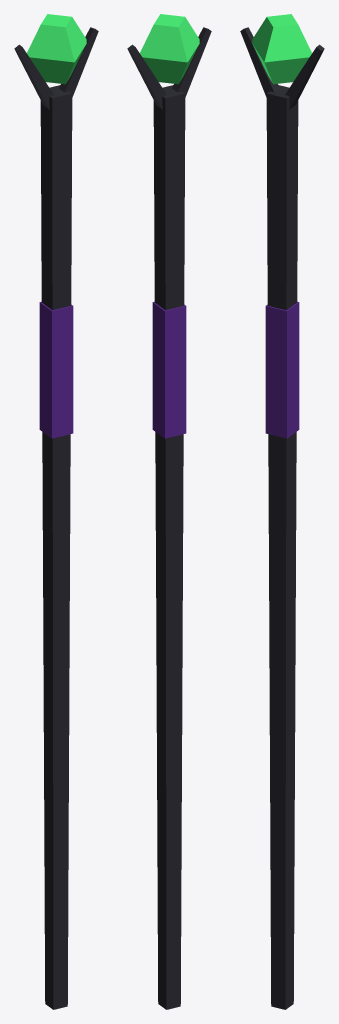
Rendered from SM_Prop_ShadowStaff_LQ.glb.
3 views of the same model, side by side, from view 1: azimuth 30°, elevation 25°; view 2: azimuth 210°, elevation 25°; view 3: azimuth 330°, elevation 25° (orthographic).
Visible parts, largest first — view 1: SM_Prop_ShadowStaff_LQ; view 2: SM_Prop_ShadowStaff_LQ; view 3: SM_Prop_ShadowStaff_LQ.
Boxes of the visible parts, box(x1,y1,x2,y2) form: SM_Prop_ShadowStaff_LQ: box(14, 14, 98, 1009); SM_Prop_ShadowStaff_LQ: box(127, 14, 211, 1009); SM_Prop_ShadowStaff_LQ: box(240, 14, 324, 1009).
Size of the model in its own units: 0.16 by 1.85 by 0.124.
1 material, 1 textured.
